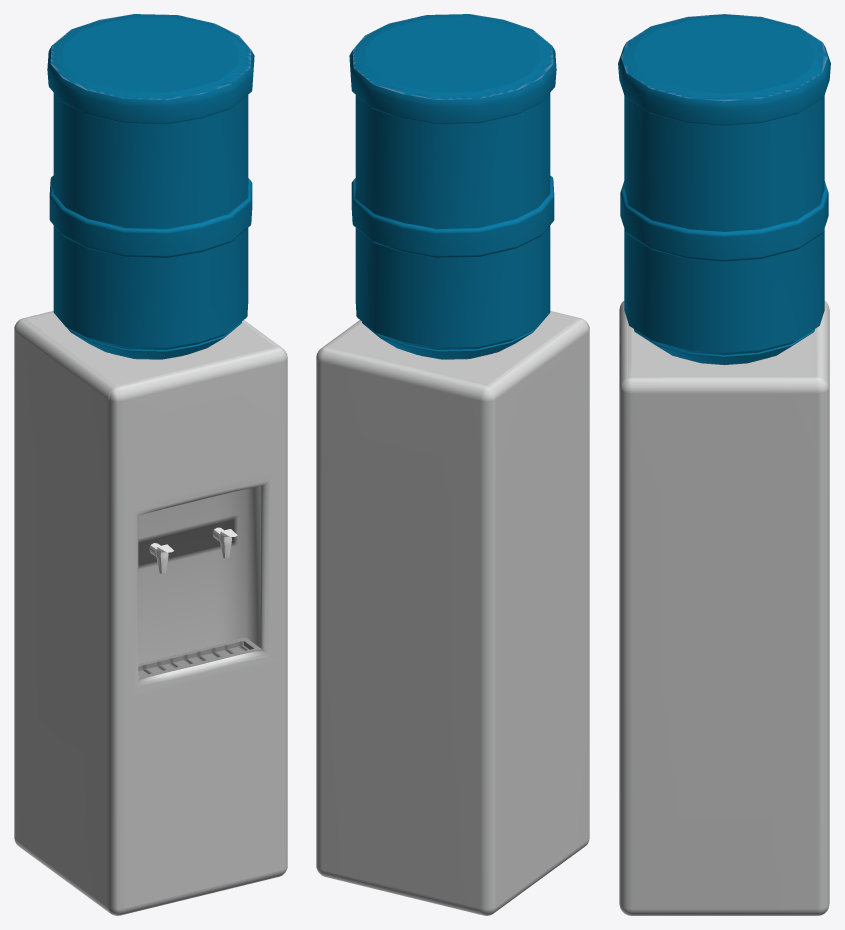
File: waterCooler.glb
3 renders of one model, left to right at view 1: azimuth 30°, elevation 25°; view 2: azimuth 150°, elevation 25°; view 3: azimuth 270°, elevation 25°, orthographic.
Parts seen in each view (by area): view 1: pCube1_Water_Cooler_0, pCube2_lambert1_0; view 2: pCube1_Water_Cooler_0; view 3: pCube1_Water_Cooler_0.
Part boxes in pixels (box(x1,y1,x2,y2)): pCube1_Water_Cooler_0: box(14, 14, 287, 915); pCube2_lambert1_0: box(149, 527, 237, 573); pCube1_Water_Cooler_0: box(316, 14, 589, 915); pCube1_Water_Cooler_0: box(618, 14, 830, 915).
Bounding box in the file's own units: 0.0101 × 0.043 × 0.0101.
2 materials, 1 textured.
